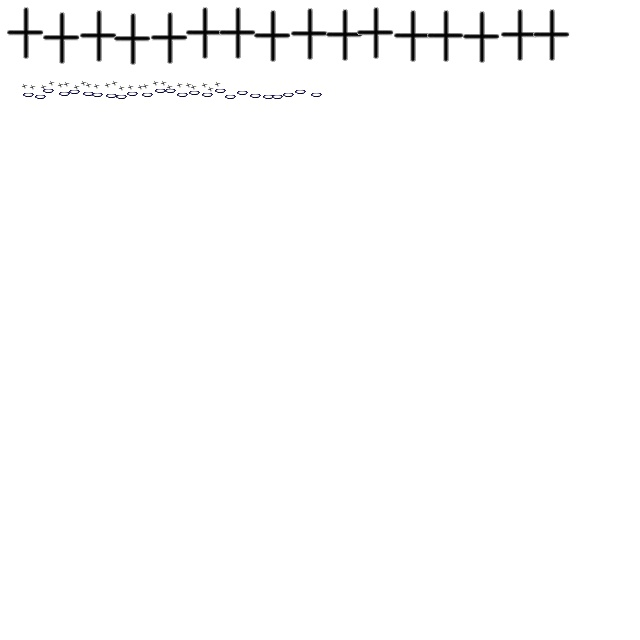chain: (22, 90, 36, 100), (34, 92, 48, 102), (42, 86, 56, 96), (154, 86, 168, 96), (164, 86, 178, 96), (176, 90, 190, 100), (188, 88, 202, 98), (214, 86, 228, 96), (224, 92, 238, 102), (236, 88, 250, 98), (262, 92, 276, 102), (282, 90, 296, 100), (310, 90, 324, 100), (92, 90, 104, 100), (116, 92, 128, 102), (142, 90, 154, 100), (202, 90, 214, 100), (272, 92, 284, 102), (58, 90, 72, 98), (68, 88, 82, 96), (82, 90, 96, 98), (126, 90, 140, 98), (294, 88, 308, 96), (106, 92, 118, 100), (250, 92, 262, 100)
double: (40, 12, 82, 66), (148, 12, 190, 66), (288, 8, 330, 62), (424, 10, 466, 64), (4, 8, 46, 60), (216, 8, 258, 60), (354, 8, 396, 60), (460, 12, 502, 64), (498, 10, 540, 62), (530, 10, 572, 62), (78, 10, 118, 64), (252, 10, 292, 64), (392, 10, 432, 64), (112, 14, 152, 66), (184, 8, 224, 60), (324, 10, 364, 62), (40, 84, 48, 90), (48, 80, 56, 86), (80, 80, 88, 86), (104, 82, 112, 88), (118, 85, 126, 91), (142, 83, 150, 89), (152, 80, 160, 86), (160, 80, 168, 86), (166, 84, 174, 90), (176, 82, 184, 88), (190, 84, 198, 90), (214, 81, 222, 87), (22, 83, 28, 89), (30, 84, 36, 90), (58, 82, 64, 88), (64, 81, 70, 87), (74, 84, 80, 90), (86, 82, 92, 88), (94, 83, 100, 89), (112, 80, 118, 86), (128, 84, 134, 90), (138, 84, 144, 90), (186, 82, 192, 88), (202, 82, 208, 88), (208, 86, 214, 92)
